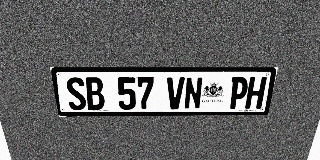5: (117, 77, 136, 110)
7: (136, 77, 154, 110)
B: (84, 77, 105, 110)
H: (245, 77, 267, 109)
N: (184, 77, 203, 109)
P: (228, 77, 249, 109)
S: (65, 77, 87, 110)
V: (166, 77, 185, 109)
